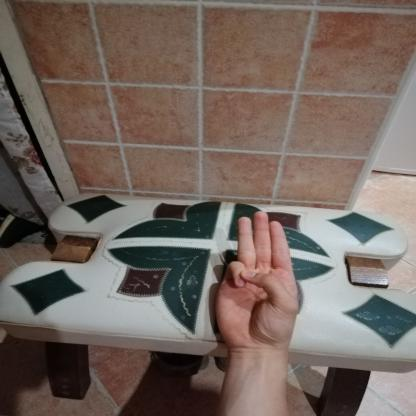THA: (200, 199, 307, 354)
